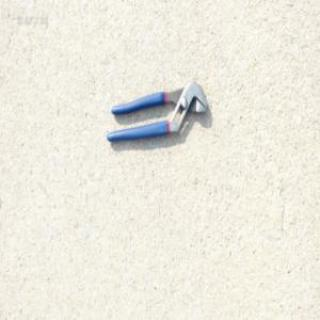Pliertrack_idkeyframe: (105, 79, 208, 143)
